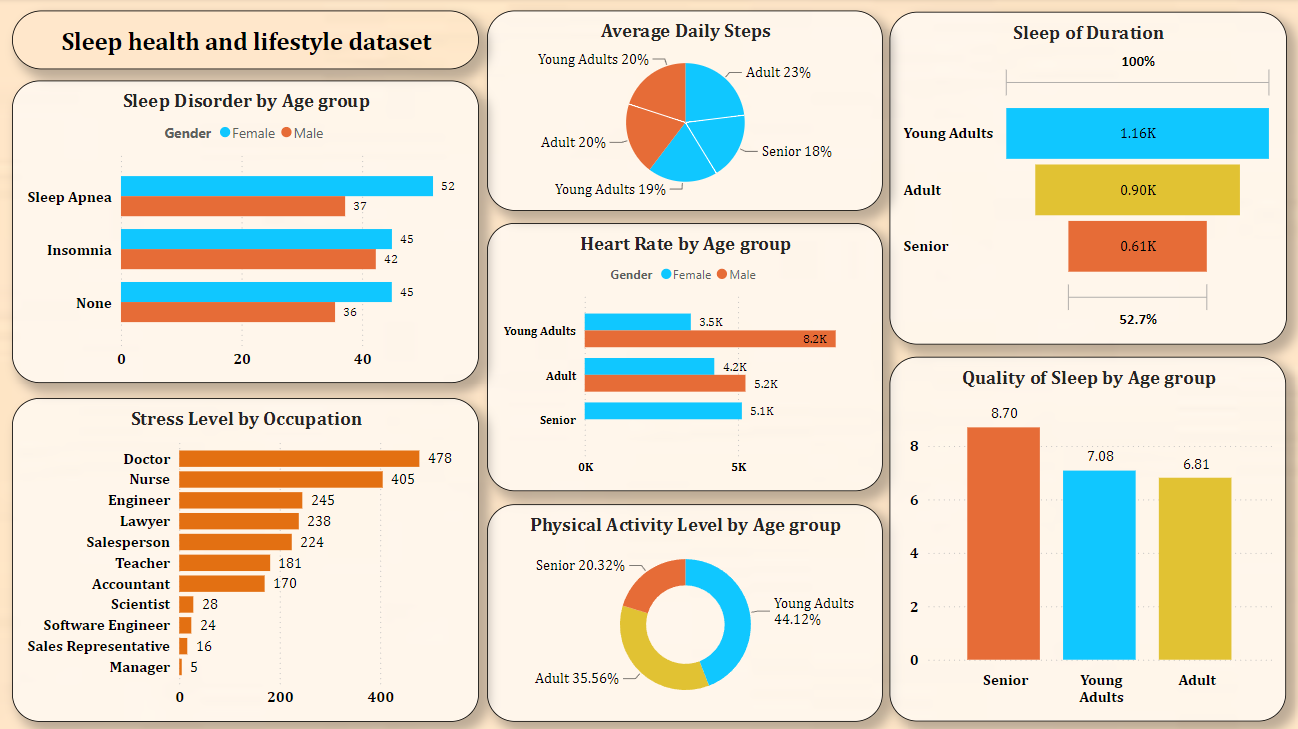

This screenshot's page, from the dashboard's own definition file:
{"tool":"powerbi","page":{"name":"Page 1","canvas":[1280,720],"ordinal":0},"visuals":[{"type":"clusteredBarChart","title":"Heart Rate by Age group","fields":{"Category":["Sleep_health_and_lifestyle_dataset.Age group"],"Y":["Sum(Sleep_health_and_lifestyle_dataset.Heart Rate)"],"Series":["Sleep_health_and_lifestyle_dataset.Gender"]},"box":[484.4,219.6,387,262.1],"z":0},{"type":"donutChart","title":"Physical Activity Level by Age group","fields":{"Y":["CountNonNull(Sleep_health_and_lifestyle_dataset.Physical Activity Level)"],"Category":["Sleep_health_and_lifestyle_dataset.Age group"]},"box":[484.4,495.4,387,212.7],"z":1000},{"type":"funnel","title":" Sleep of Duration ","fields":{"Category":["Sleep_health_and_lifestyle_dataset.Age group"],"Y":["Sum(Sleep_health_and_lifestyle_dataset.Sleep Duration)"]},"box":[878.6,12.9,388.6,325.7],"z":2000},{"type":"clusteredBarChart","title":"Stress Level by Occupation","fields":{"Category":["Sleep_health_and_lifestyle_dataset.Occupation"],"Y":["Sum(Sleep_health_and_lifestyle_dataset.Stress Level)"]},"box":[19.2,391.1,456.9,317],"z":3000},{"type":"pieChart","title":"Average Daily Steps ","fields":{"Category":["Sleep_health_and_lifestyle_dataset.Gender"],"Y":["Avg(Sleep_health_and_lifestyle_dataset.Daily Steps)"],"Series":["Sleep_health_and_lifestyle_dataset.Age group"]},"box":[484.4,12.3,387,196.2],"z":4000},{"type":"columnChart","title":"Quality of Sleep by Age group","fields":{"Y":["Avg(Sleep_health_and_lifestyle_dataset.Quality of Sleep)"],"Category":["Sleep_health_and_lifestyle_dataset.Age group"]},"box":[878.2,351.3,388.3,356.8],"z":5000},{"type":"textbox","box":[19.2,12.3,456.9,57.6],"z":6000},{"type":"clusteredBarChart","title":"Sleep Disorder by  Age group","fields":{"Category":["Sleep_health_and_lifestyle_dataset.Sleep Disorder"],"Y":["Avg(Sleep_health_and_lifestyle_dataset.Age)"],"Series":["Sleep_health_and_lifestyle_dataset.Gender"]},"box":[19.2,81,456.9,296.4],"z":7000}]}

Visuals, with their boxes in screenshot pixels (x1, y1, x2, y2), scaled from the page's 1280x720 canvas onto the 1298x729 screenshot:
"Heart Rate by Age group" clusteredBarChart: bbox=(491, 222, 884, 488)
"Physical Activity Level by Age group" donutChart: bbox=(491, 502, 884, 717)
" Sleep of Duration " funnel: bbox=(891, 13, 1285, 343)
"Stress Level by Occupation" clusteredBarChart: bbox=(19, 396, 483, 717)
"Average Daily Steps " pieChart: bbox=(491, 12, 884, 211)
"Quality of Sleep by Age group" columnChart: bbox=(891, 356, 1284, 717)
textbox: bbox=(19, 12, 483, 71)
"Sleep Disorder by  Age group" clusteredBarChart: bbox=(19, 82, 483, 382)
